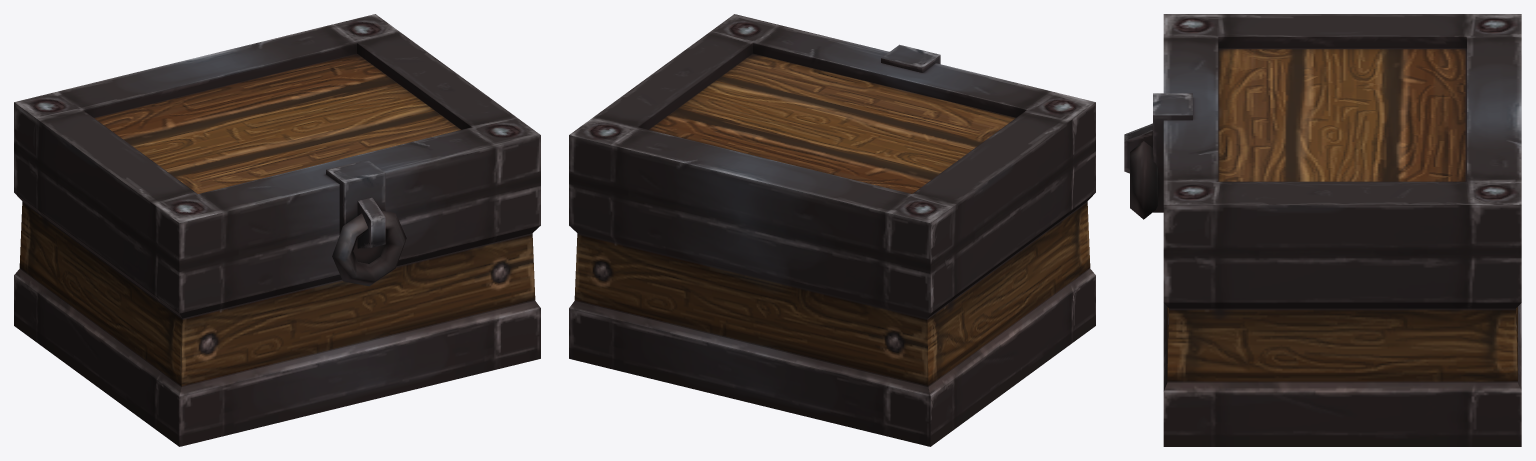
File: Prop_Chest3.fbx
The picture shows the model from 3 angles, left to right: view 1: azimuth 30°, elevation 25°; view 2: azimuth 150°, elevation 25°; view 3: azimuth 270°, elevation 25°; orthographic projection. The views are drawn at different scales.
Visible parts, largest first — view 1: polySurface579; view 2: polySurface579; view 3: polySurface579.
Boxes of the visible parts, x1,y1,x2,y2 form: polySurface579: (14, 14, 540, 446); polySurface579: (569, 14, 1095, 446); polySurface579: (1124, 14, 1521, 446).
Bounding box in the file's own units: 1.24 × 0.7514 × 1.09.
Materials: 1 (1 with a texture image).
